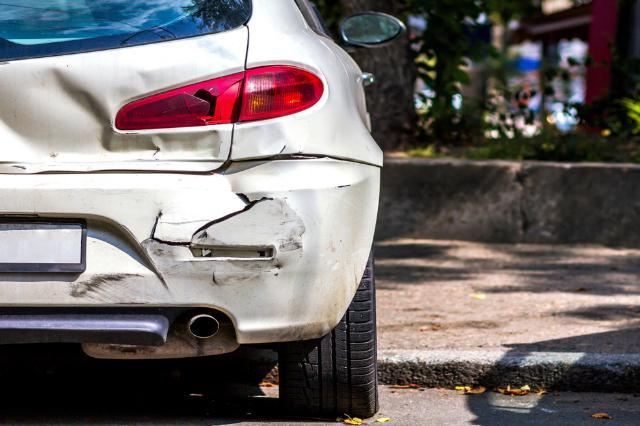Bumper: (0, 164, 410, 354)
Dickey: (0, 50, 113, 177)
Light: (110, 68, 245, 129)
